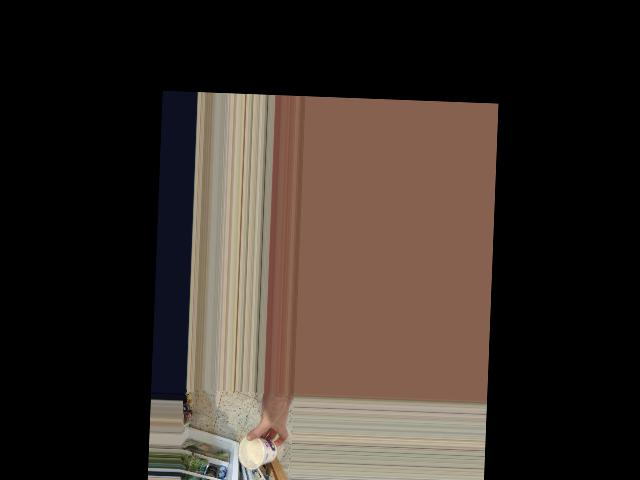cotage: (238, 432, 279, 468)
